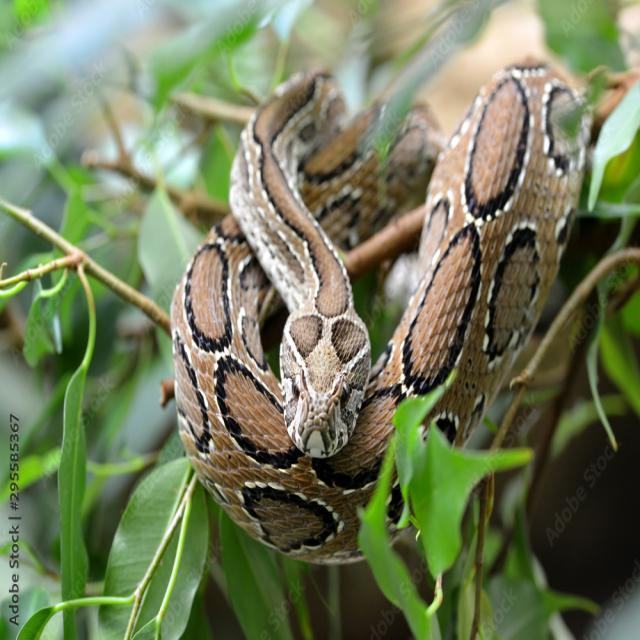Snake: (172, 0, 600, 581)
